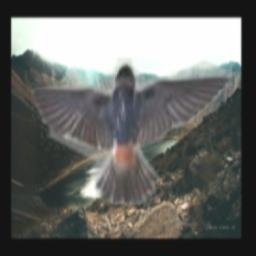Swallow: (30, 59, 238, 205)
